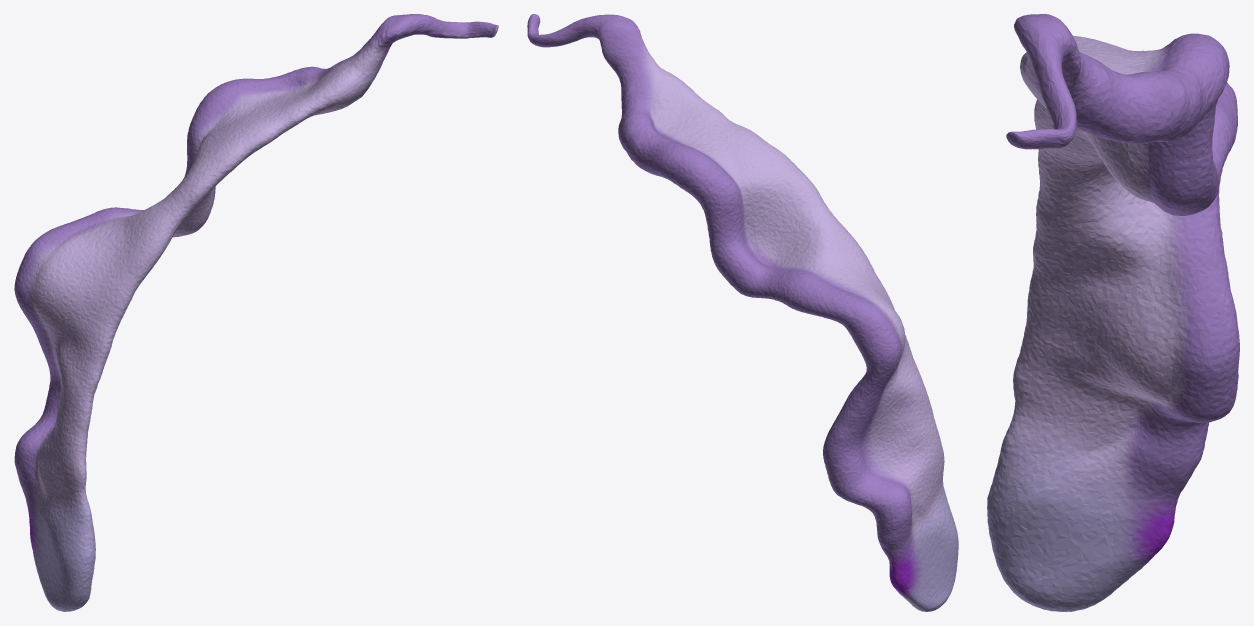
Rendered from 3DPX-009789-0.glb.
3 views of the same model, side by side, from view 1: azimuth 30°, elevation 25°; view 2: azimuth 150°, elevation 25°; view 3: azimuth 270°, elevation 25° (orthographic). The views are drawn at different scales.
Size of the model in its own units: 128 by 145 by 38.77.
